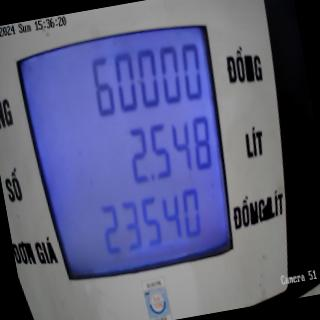screen: (6, 5, 250, 291)
